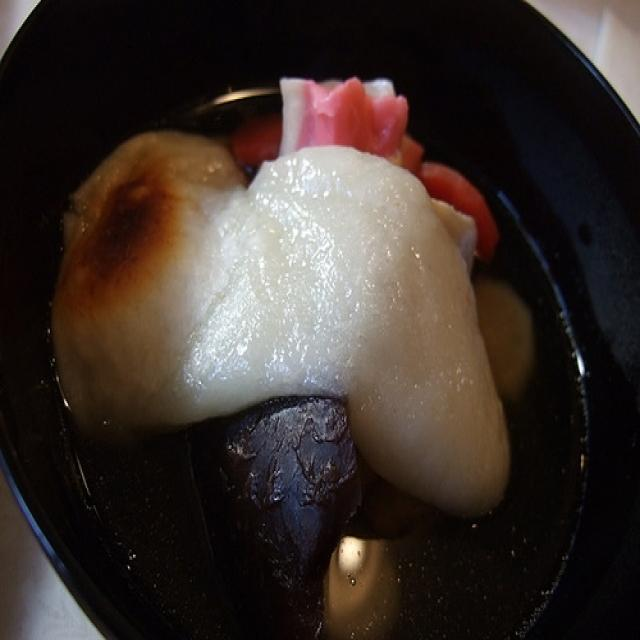汤锅炖物: (15, 16, 626, 632)
